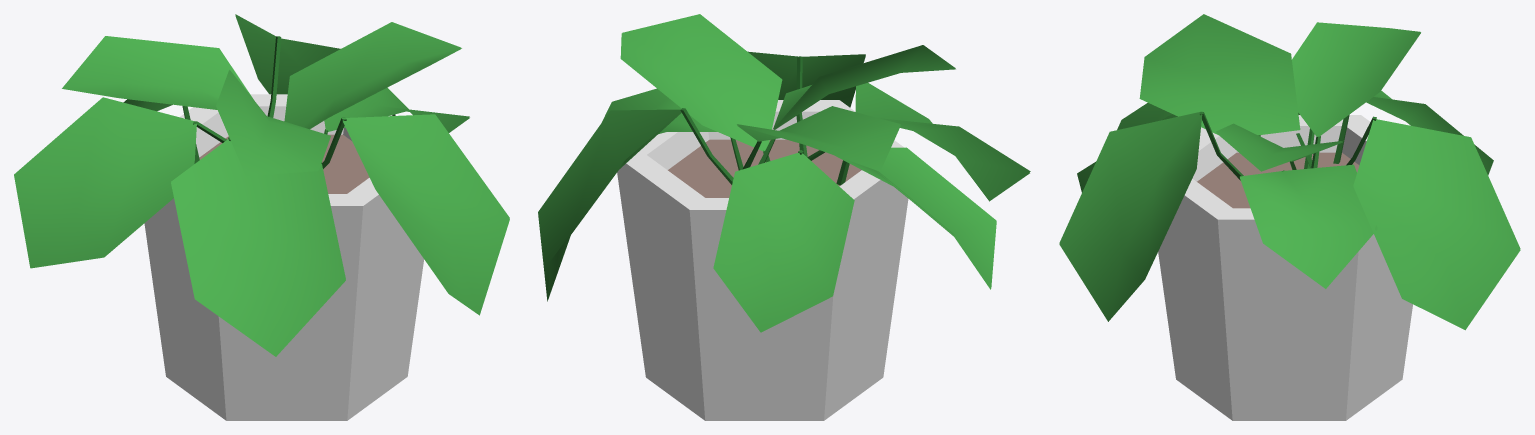
Rendered from Plant_Pot_M.fbx.
3 renders of one model, left to right at view 1: azimuth 30°, elevation 25°; view 2: azimuth 150°, elevation 25°; view 3: azimuth 270°, elevation 25°, orthographic. The views are drawn at different scales.
Visible parts, largest first — view 1: Plant_Pot_M; view 2: Plant_Pot_M; view 3: Plant_Pot_M.
Part boxes in pixels (x1,y1,x2,y2): Plant_Pot_M: (14, 14, 509, 420); Plant_Pot_M: (538, 14, 1030, 420); Plant_Pot_M: (1059, 14, 1520, 420).
Bounding box in the file's own units: 35.42 × 27.18 × 36.34.
1 material, 1 textured.
